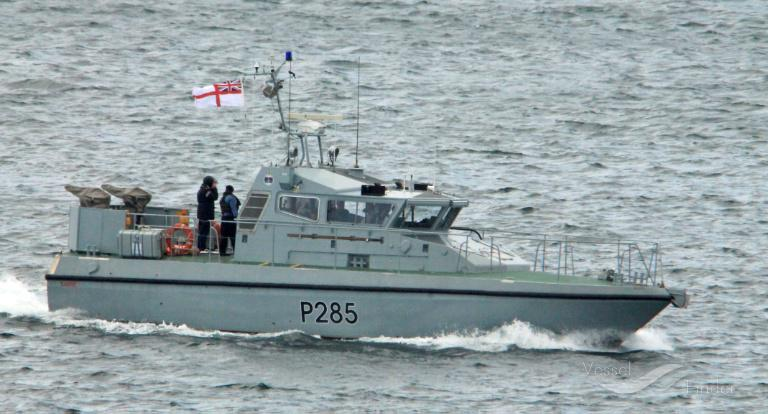OCR: (294, 296, 362, 331)
